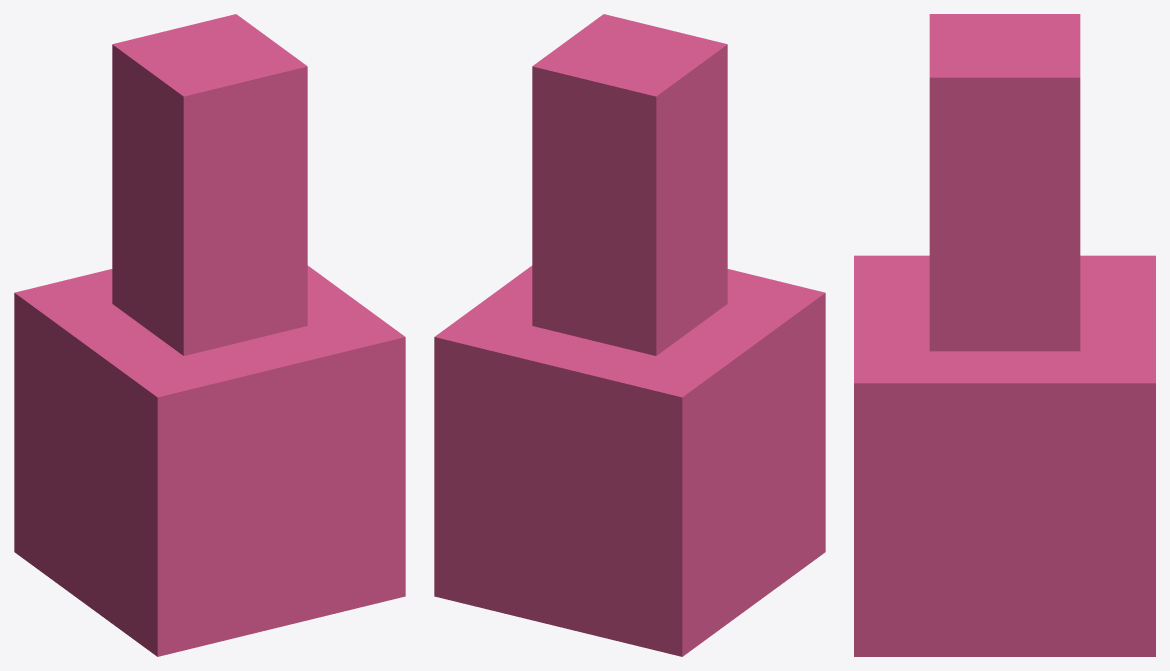
File: Furnace.glb
The picture shows the model from 3 angles, left to right: view 1: azimuth 30°, elevation 25°; view 2: azimuth 150°, elevation 25°; view 3: azimuth 270°, elevation 25°; orthographic projection. The views are drawn at different scales.
Visible parts, largest first — view 1: Cube, Cube.001; view 2: Cube, Cube.001; view 3: Cube, Cube.001.
Part boxes in pixels (left/top/right/bottom): Cube: left=14, top=265, right=405, bottom=656; Cube.001: left=112, top=14, right=307, bottom=355; Cube: left=434, top=265, right=825, bottom=656; Cube.001: left=532, top=14, right=727, bottom=355; Cube: left=854, top=255, right=1155, bottom=656; Cube.001: left=929, top=14, right=1080, bottom=351.
Bounding box in the file's own units: 4 × 8 × 4.
